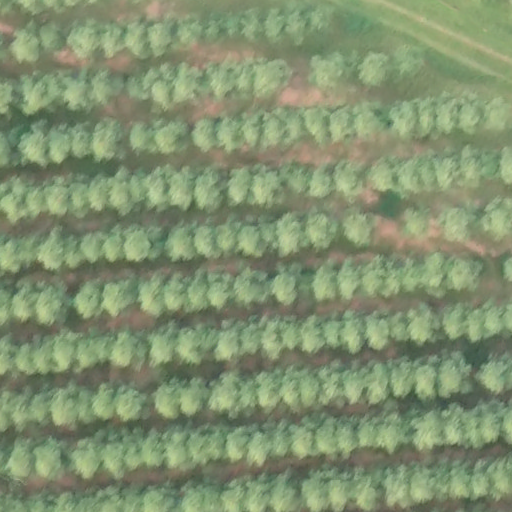eucalipto: (24, 70, 58, 115), (89, 64, 127, 104), (254, 59, 290, 100), (34, 440, 68, 482), (92, 119, 125, 162), (172, 59, 200, 109), (194, 170, 227, 212), (1, 178, 29, 227), (368, 157, 402, 197), (37, 225, 66, 271), (225, 167, 261, 204), (358, 50, 391, 90), (2, 440, 35, 480), (410, 464, 443, 504), (407, 305, 439, 346), (51, 389, 83, 430), (209, 59, 238, 104), (147, 324, 178, 366), (340, 308, 366, 358), (111, 333, 147, 369), (138, 274, 168, 317), (72, 281, 104, 321), (20, 124, 49, 168), (167, 166, 194, 213), (388, 97, 418, 139), (252, 172, 287, 208), (211, 374, 241, 416), (103, 279, 136, 317), (37, 288, 70, 326), (109, 166, 134, 216), (144, 167, 171, 213), (312, 56, 343, 96), (153, 381, 184, 421), (67, 25, 101, 61), (233, 271, 269, 305), (354, 101, 386, 139), (306, 213, 337, 252), (385, 469, 416, 508), (425, 254, 453, 297), (218, 314, 243, 362), (41, 176, 70, 217), (476, 357, 508, 394), (255, 369, 283, 411), (63, 75, 93, 114), (481, 205, 511, 244), (259, 317, 286, 360), (165, 222, 194, 262), (450, 258, 484, 292), (10, 26, 40, 64), (301, 472, 331, 510), (126, 19, 153, 61), (276, 217, 303, 259), (338, 258, 363, 303), (366, 361, 391, 406), (342, 213, 375, 247), (363, 311, 391, 351), (192, 223, 222, 260), (178, 381, 208, 418), (165, 431, 192, 472), (432, 95, 457, 139), (90, 384, 118, 423), (154, 120, 188, 152), (395, 42, 425, 78), (456, 97, 483, 137), (472, 461, 499, 501), (297, 367, 322, 410), (328, 106, 357, 143), (236, 317, 265, 354), (116, 385, 145, 422), (450, 462, 479, 499), (438, 358, 464, 399), (442, 303, 470, 341), (177, 328, 205, 366), (192, 431, 224, 464), (236, 224, 267, 258), (122, 228, 153, 262), (215, 115, 242, 154), (457, 142, 478, 192), (272, 470, 297, 512), (335, 161, 364, 197), (304, 107, 330, 147), (390, 359, 416, 399), (74, 442, 102, 479), (248, 427, 272, 470), (439, 207, 468, 242), (78, 229, 107, 264), (48, 127, 74, 166), (190, 117, 218, 153), (166, 270, 190, 312), (142, 431, 169, 468), (10, 388, 32, 433), (315, 418, 341, 456), (17, 342, 46, 376), (246, 475, 272, 512), (397, 157, 421, 197), (208, 271, 232, 311), (176, 14, 204, 48), (302, 314, 327, 352), (292, 420, 314, 463), (285, 7, 309, 46), (400, 206, 430, 237), (101, 21, 126, 58), (435, 152, 457, 194), (308, 167, 336, 200), (282, 367, 303, 411), (106, 440, 129, 480), (77, 391, 104, 425), (127, 121, 153, 156), (382, 413, 404, 454), (29, 391, 57, 423), (150, 20, 174, 57), (67, 182, 91, 219), (363, 257, 384, 299), (314, 266, 339, 301), (11, 288, 36, 323), (72, 336, 97, 371), (341, 367, 364, 405), (60, 234, 84, 270), (87, 332, 114, 364), (421, 411, 445, 447), (327, 474, 351, 510), (1, 78, 22, 119), (31, 342, 57, 375), (143, 486, 176, 512), (261, 112, 286, 146), (467, 307, 491, 342), (189, 271, 211, 309), (318, 365, 338, 406), (54, 337, 75, 376), (446, 403, 465, 446), (274, 274, 298, 308), (280, 316, 304, 350), (227, 427, 249, 464), (306, 4, 333, 34), (71, 123, 94, 158), (88, 174, 110, 210), (201, 479, 225, 512), (1, 237, 23, 273), (194, 325, 221, 354), (492, 458, 512, 497), (415, 366, 437, 401), (340, 415, 357, 460), (399, 263, 426, 291), (481, 408, 502, 444), (180, 484, 207, 512), (381, 262, 400, 301), (147, 222, 165, 263), (273, 417, 291, 458), (477, 150, 500, 182), (265, 8, 286, 43), (1, 339, 18, 382), (41, 26, 66, 54), (287, 108, 307, 143), (240, 12, 264, 41), (241, 116, 264, 146), (222, 482, 245, 512), (420, 153, 436, 195), (357, 418, 378, 450), (1, 130, 16, 174), (17, 240, 38, 270), (26, 186, 45, 219), (357, 486, 382, 511), (53, 490, 81, 512), (416, 102, 433, 138), (104, 233, 124, 263), (324, 317, 344, 347), (116, 492, 146, 512), (215, 225, 237, 252), (389, 316, 409, 344), (484, 307, 503, 336), (132, 169, 148, 203), (298, 274, 317, 297), (260, 221, 276, 246), (223, 13, 238, 36), (503, 253, 512, 290)
